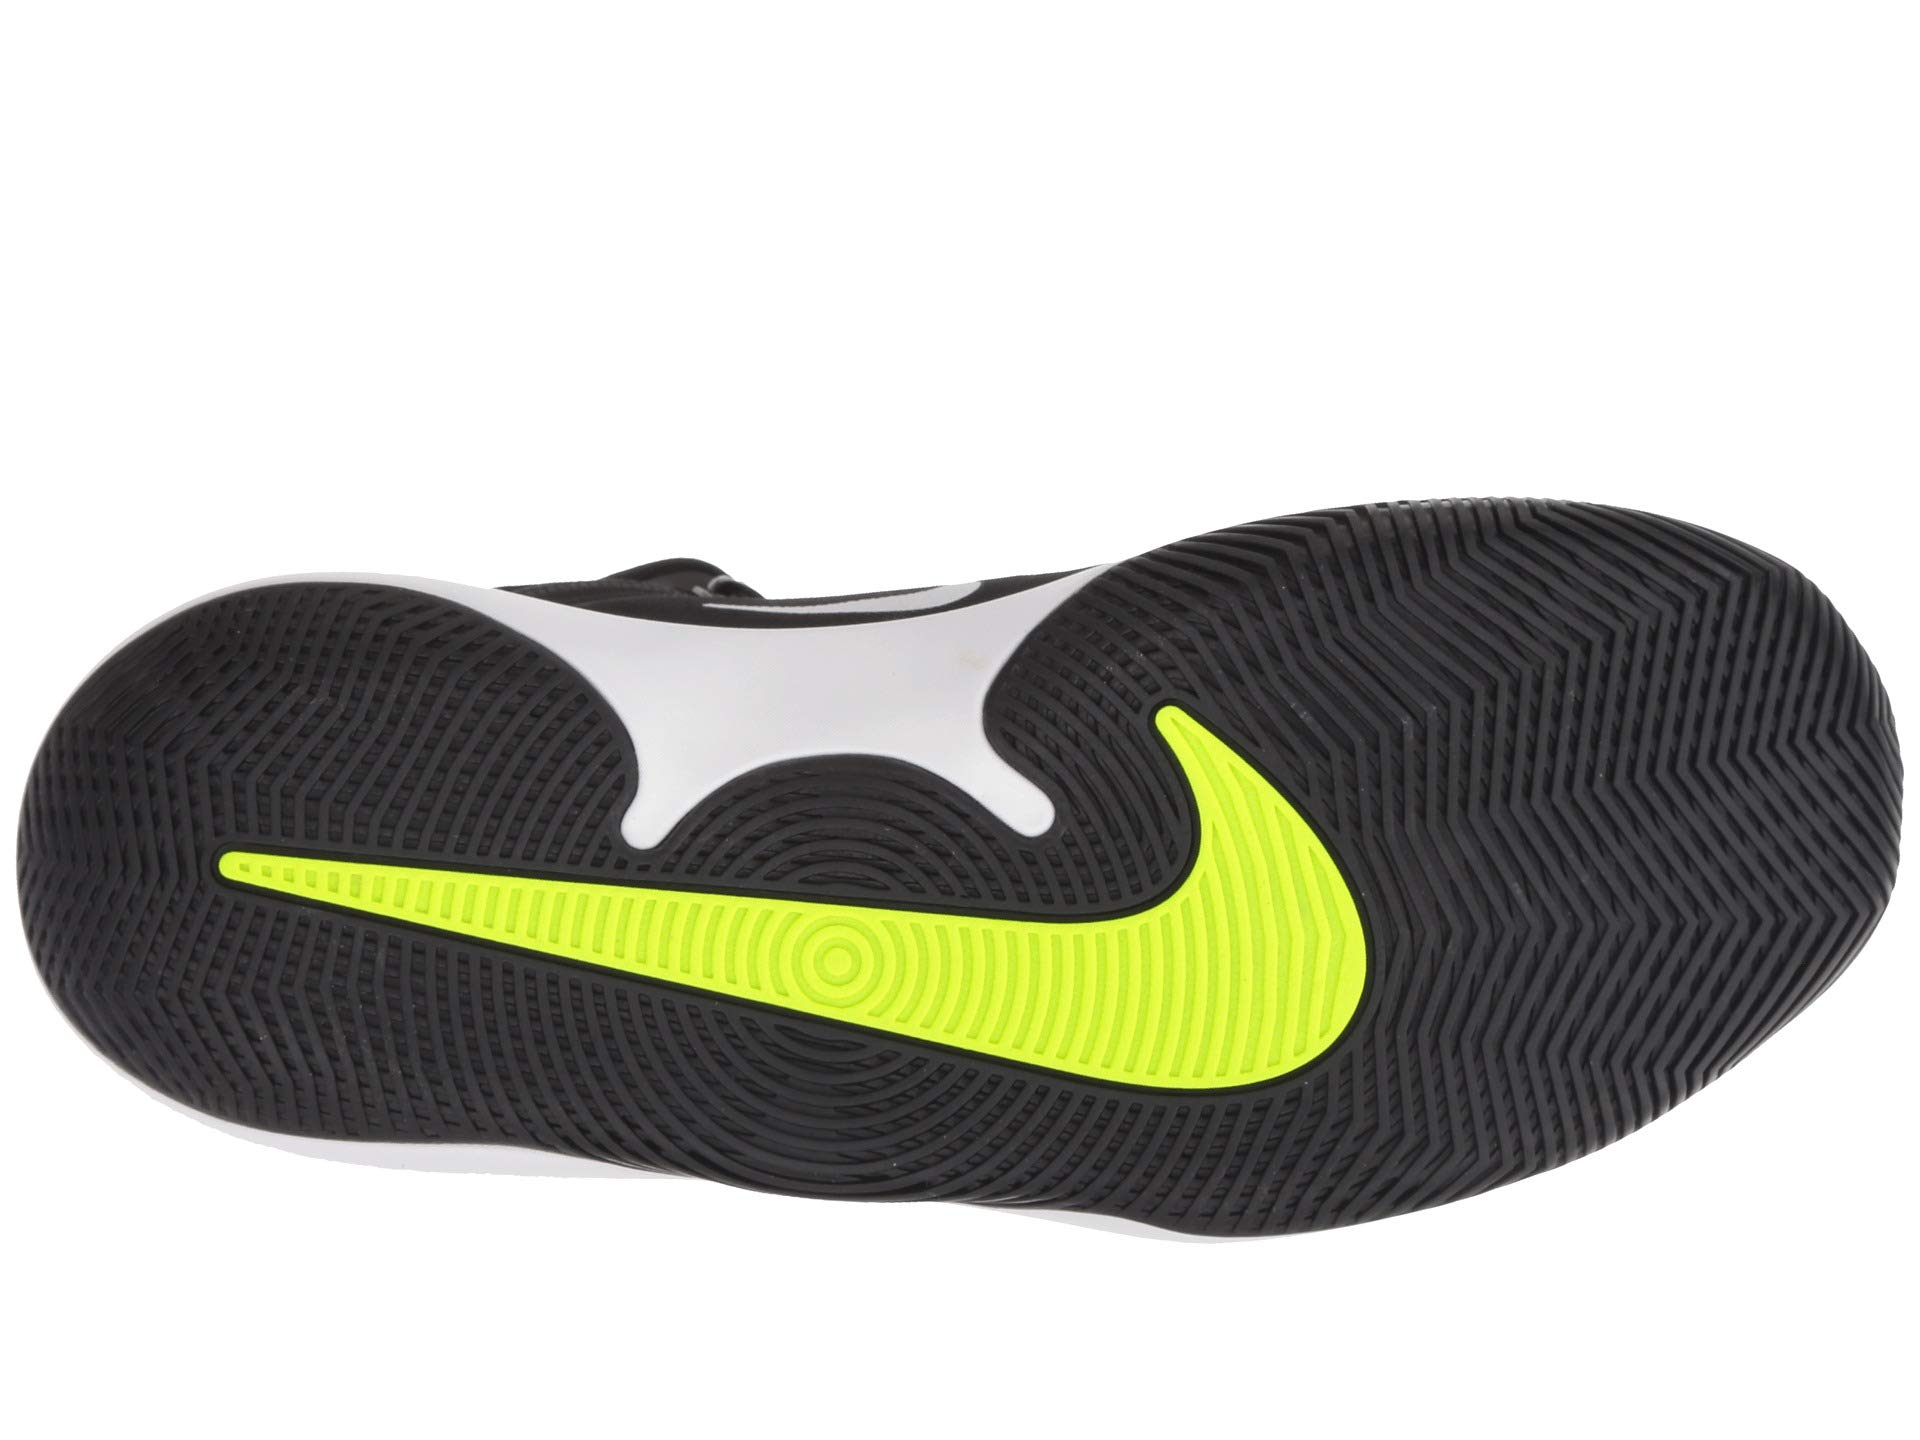chevron: (1451, 538, 1779, 1032)
line: (116, 700, 441, 889)
quad: (116, 700, 441, 889)
